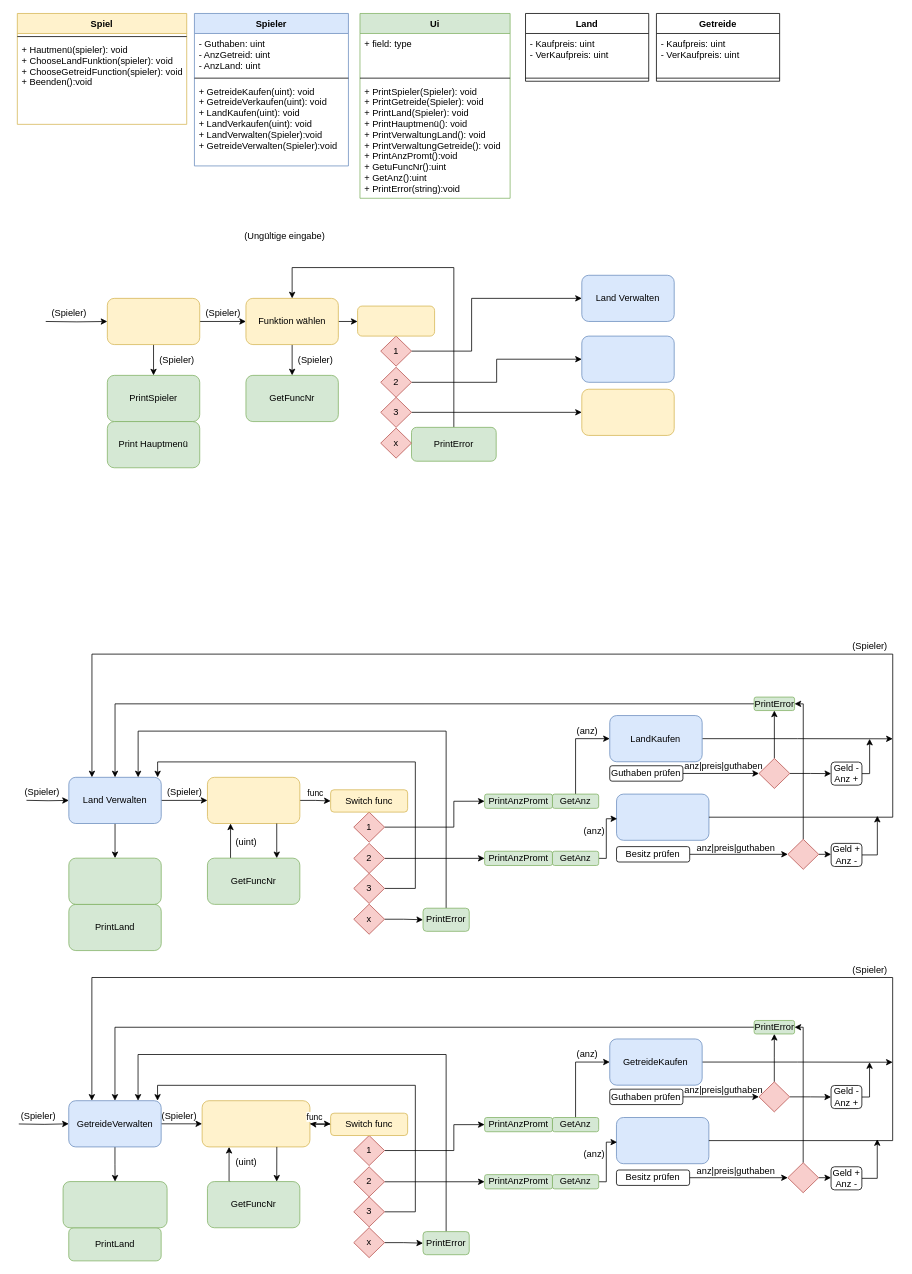
Image size: 912x1274. Some labels were removed from this diagram. The centre of each missing label's shape, as x and y in pixels:
"ChooseGetreideFunction" goes at pixel 255 1123.
"ChooseLandFunction" goes at pixel 253 800.
"Getreide Verwalten" goes at pixel 627 358.
"GetreideVerkaufen" goes at pixel 662 1140.
"Hauptmenü" goes at pixel 153 321.
"LandVerkaufen" goes at pixel 662 816.
"PrintGetreideVerwaltung" goes at pixel 114 1204.
"PrintLandVerwaltung" goes at pixel 114 880.
"Spiel Beenden" goes at pixel 627 411.
"Switch number" goes at pixel 396 320.
